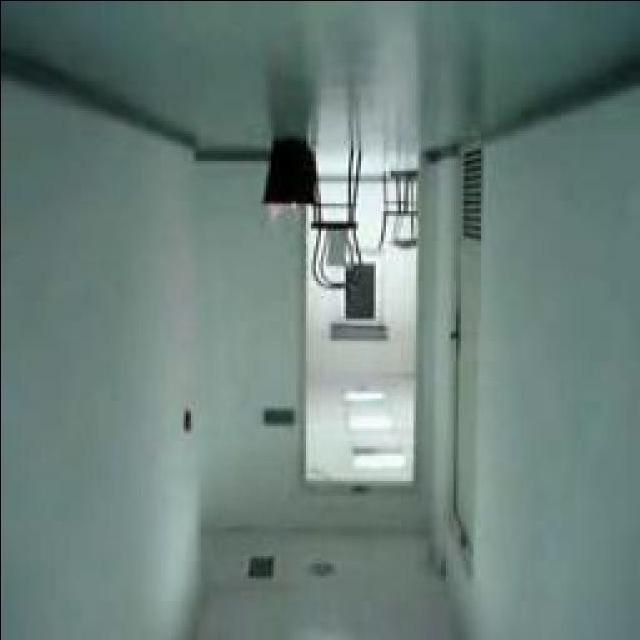Fire: (266, 203, 282, 221), (288, 204, 296, 211)
